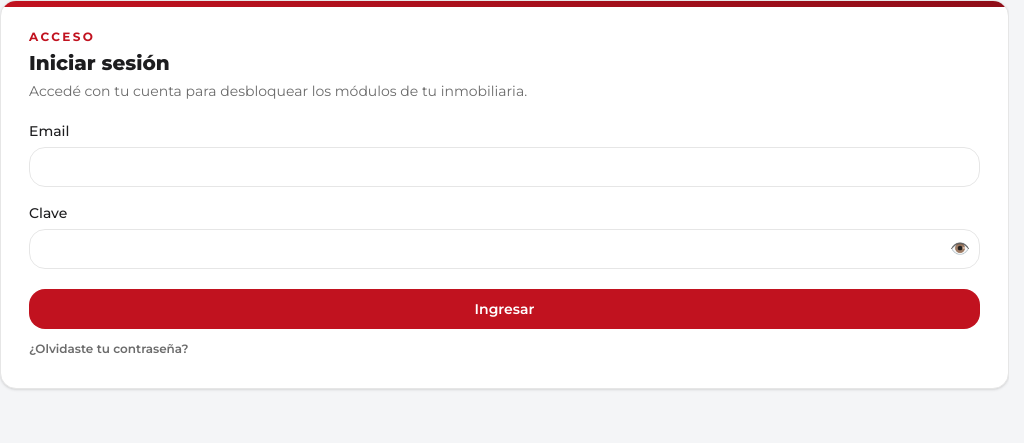
Test: LoginPanel › sin conexión dice que no hay conexión, no que la clave está mal
The image size is (1024, 443).
Type "demo@vacker.com" into the field labelled "Email" at (504, 167), box 29,147 -> 980,187
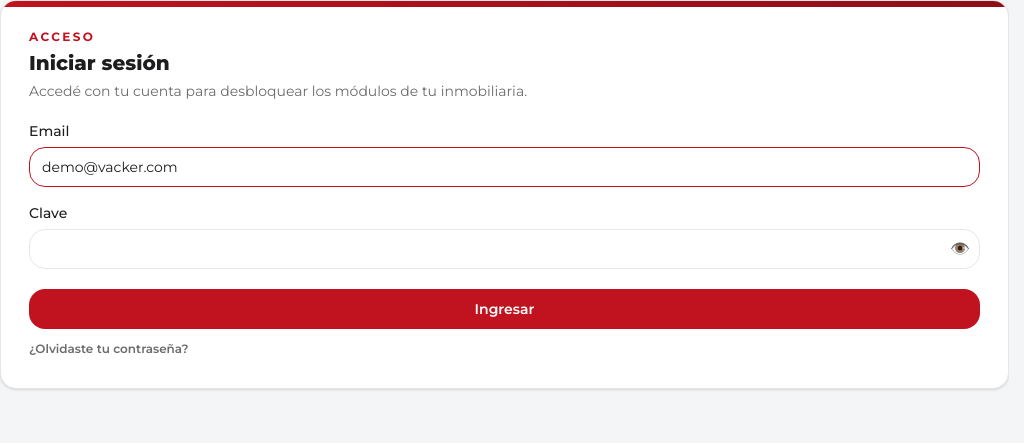
Type "secreta123" into the password field labelled "Clave" at (504, 249), box 29,229 -> 980,269
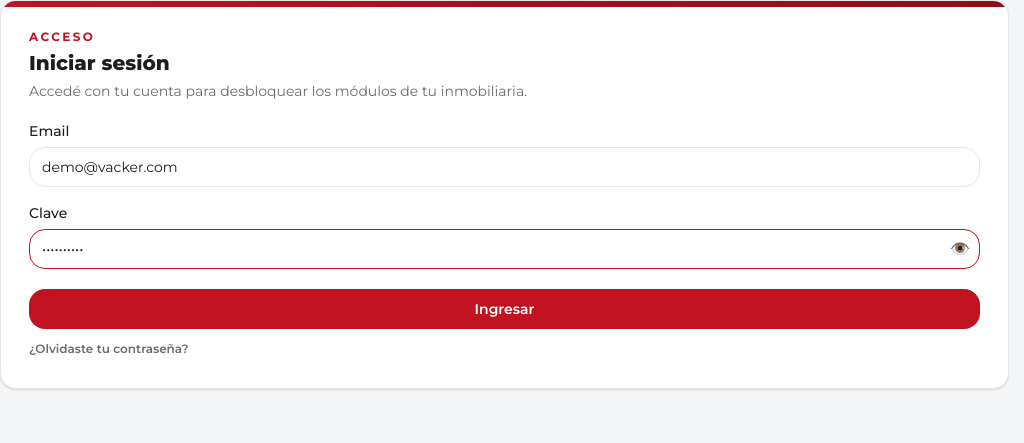
Click the button "Ingresar" at (504, 309), box 29,289 -> 980,329
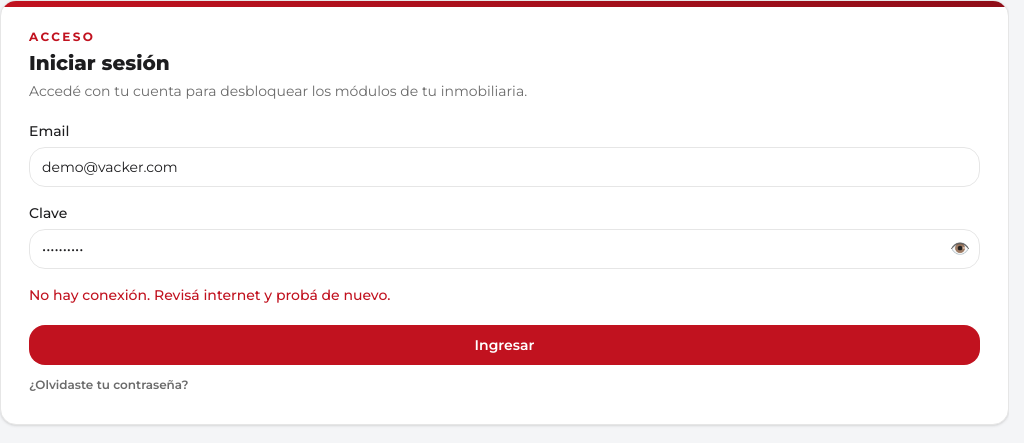
Check: the message does not show "incorrectos", box 29,286 -> 390,304
Check: the message reads "No hay conexión. Revisá internet y probá de nuevo.", box 29,286 -> 390,304
